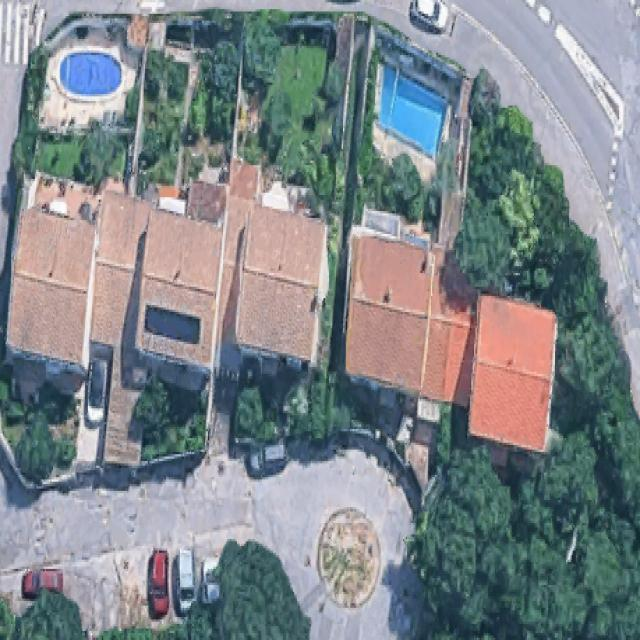maison: (338, 229, 482, 404), (218, 158, 331, 363), (129, 176, 234, 367), (457, 293, 564, 450), (4, 211, 94, 374), (85, 192, 149, 344)
